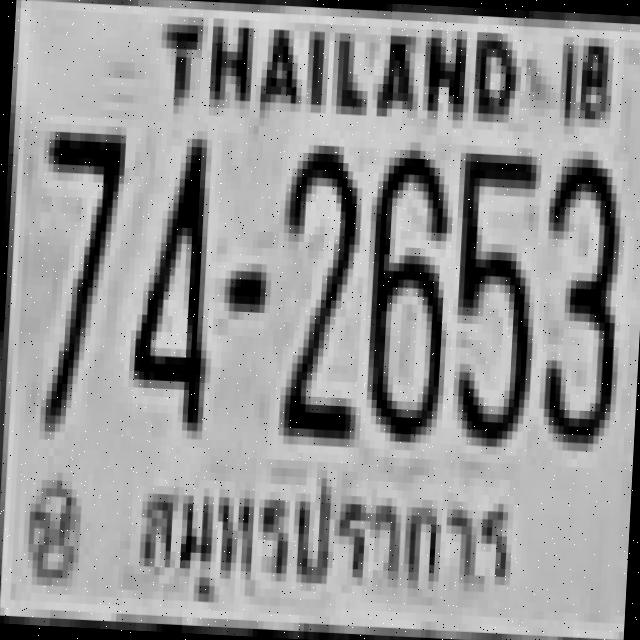2: (276, 140, 362, 435)
3: (535, 150, 626, 444)
4: (126, 128, 212, 423)
5: (446, 145, 537, 440)
6: (361, 140, 452, 436)
7: (30, 123, 121, 426), (32, 123, 121, 386)
SamutPrakan: (123, 452, 521, 627)
